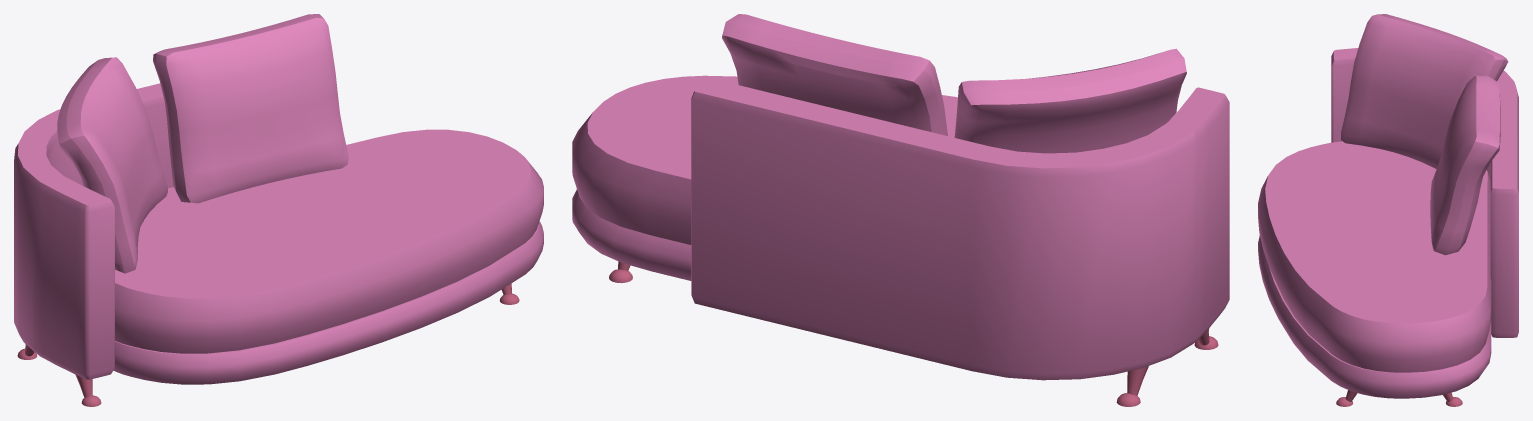
Rendered from sofa_modern.glb.
3 views of the same model, side by side, from view 1: azimuth 30°, elevation 25°; view 2: azimuth 150°, elevation 25°; view 3: azimuth 270°, elevation 25° (orthographic). The views are drawn at different scales.
Visible parts, largest first — view 1: Material2, Material3; view 2: Material2, Material3; view 3: Material2, Material3.
Boxes of the visible parts, x1,y1,x2,y2 form: Material2: (14, 14, 543, 384); Material3: (17, 283, 519, 406); Material2: (572, 14, 1229, 380); Material3: (609, 261, 1218, 406); Material2: (1258, 14, 1518, 398); Material3: (1336, 390, 1462, 406).
Size of the model in its own units: 68.21 by 33.44 by 36.24.
